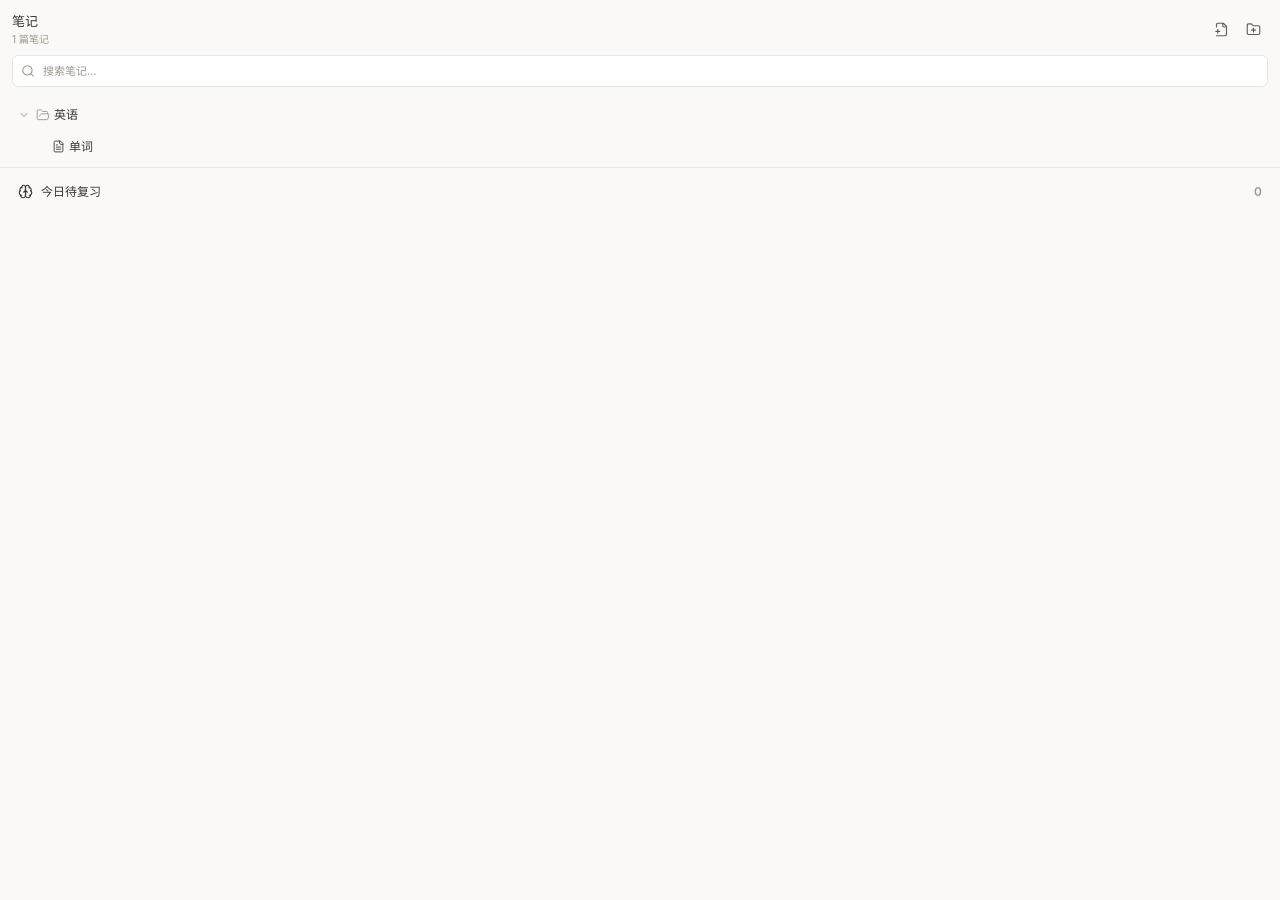
Test: FileTree 右键菜单 › 点击空白处关闭菜单
Right-click the button "英语" at point(24, 114), box left=8, top=98, right=1272, bottom=130
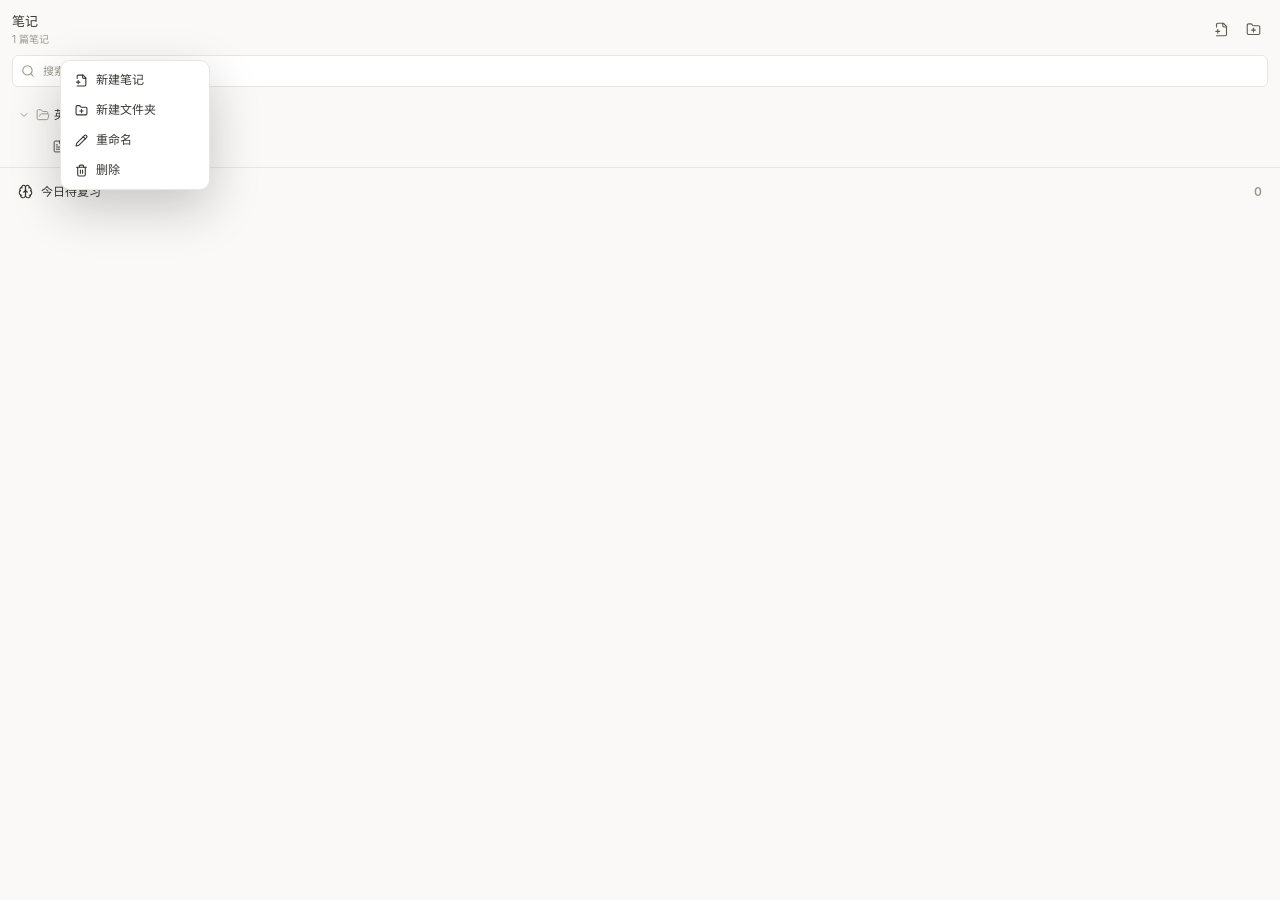
expect the text "新建笔记" is shown: met, box left=65, top=65, right=205, bottom=95
expect the element with class "z-70" is shown: met
Press the mouse on the element with class "z-70" at point(640, 450), box left=0, top=0, right=1279, bottom=899
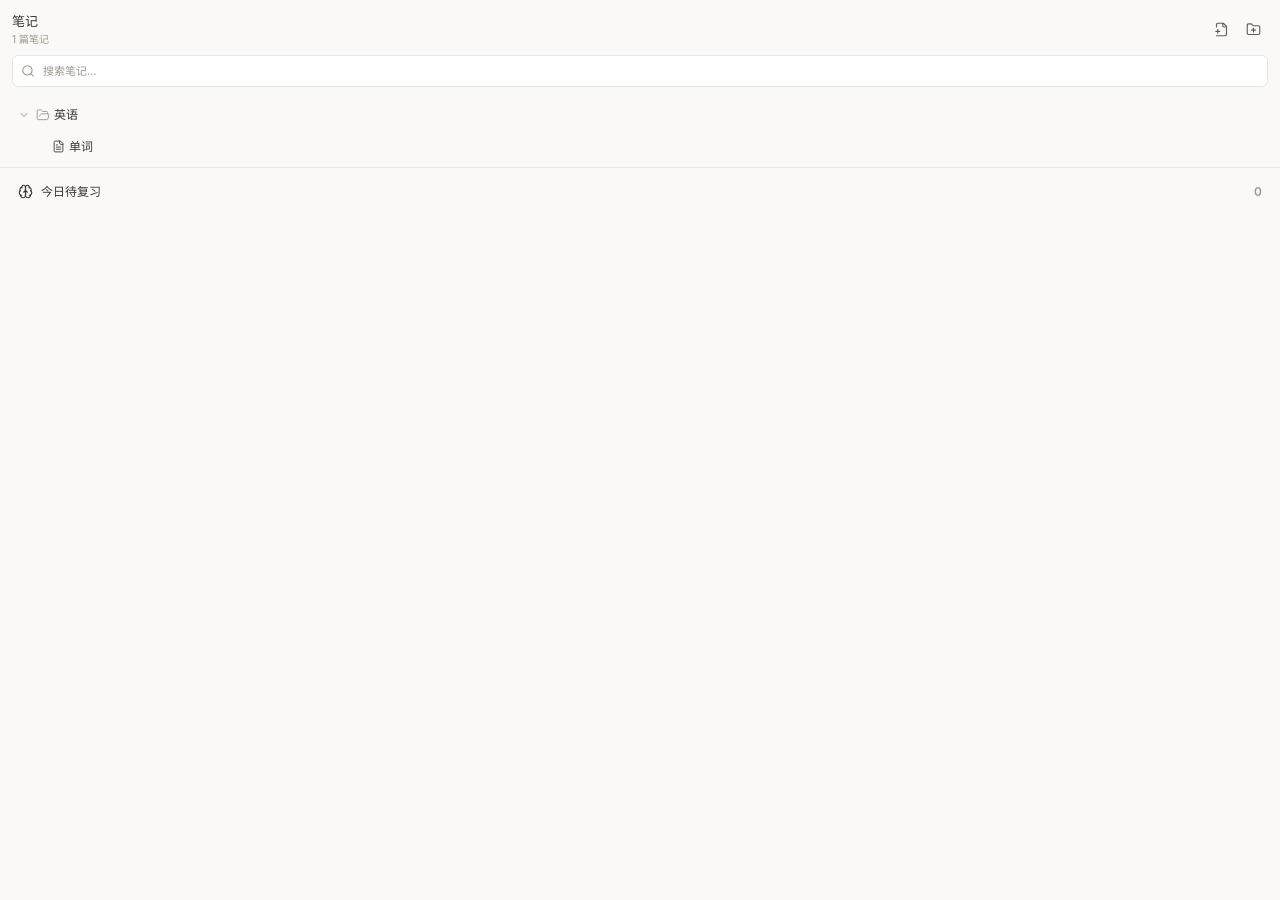
expect the text "新建笔记" is gone: met
